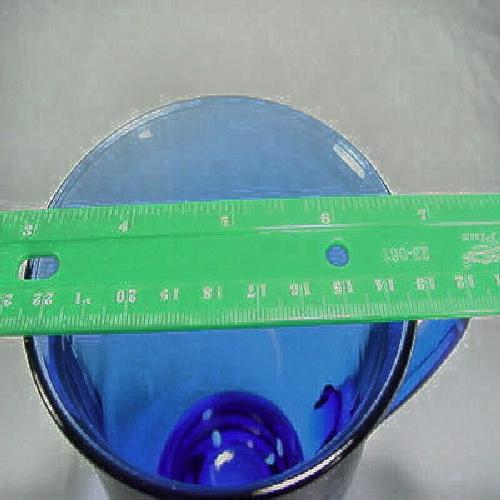mug: (31, 99, 446, 481)
